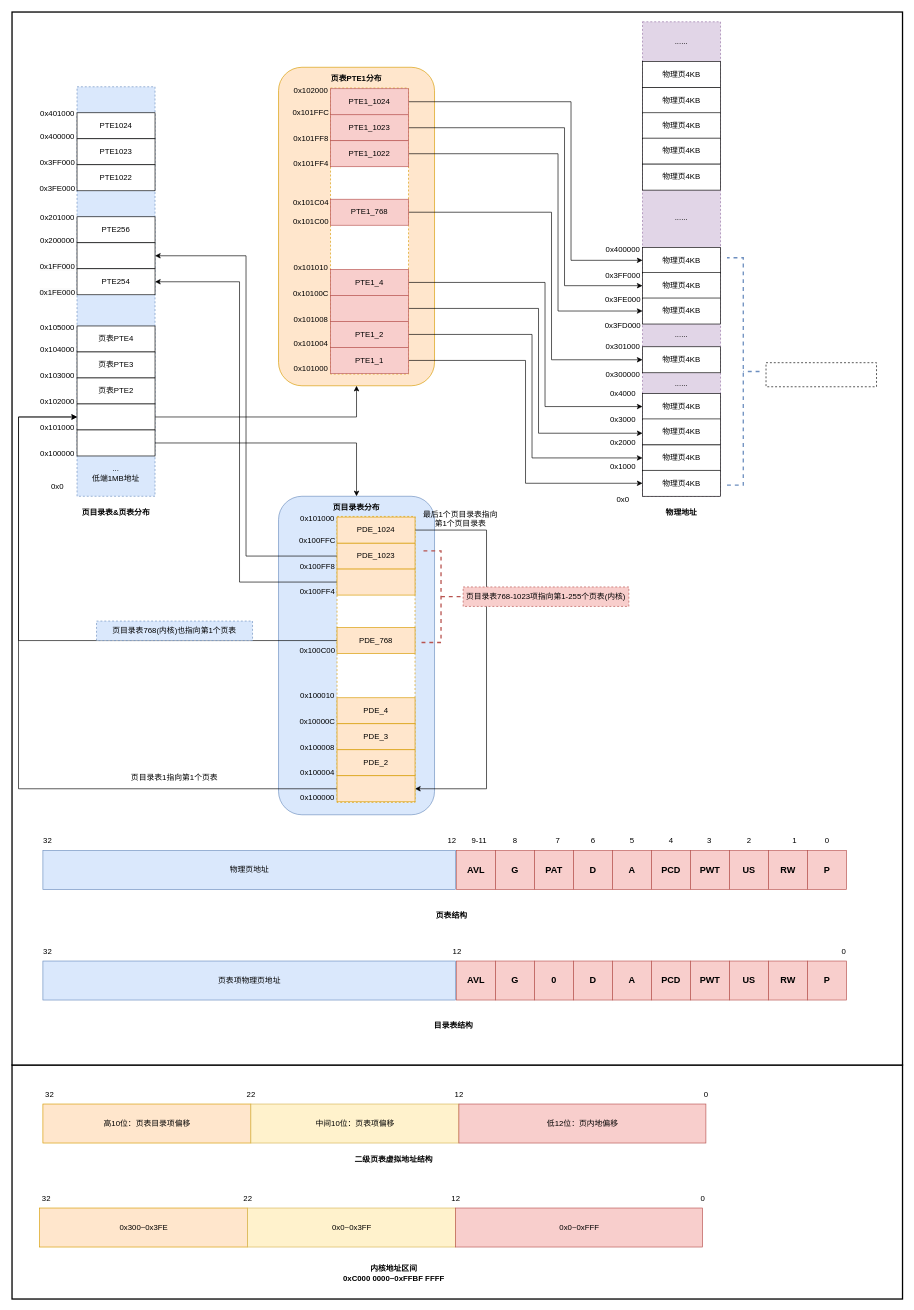
The diagram is 914 pixels wide and 1310 high, and some of its shapes have lost their labels. The shapes that lost their labels are listed below. From the top down, each one's centre as x and y in pixels, then its label:
At point 115,255: "PTE255".
At point 369,308: "PTE1_3".
At point 821,374: "1个页表对应4MB物理内存： 1024 * 4096".
At point 115,416: "页表PTE1".
At point 115,442: "页目录表PDE".
At point 375,581: "PDE_1022".
At point 375,788: "PDE_1".
